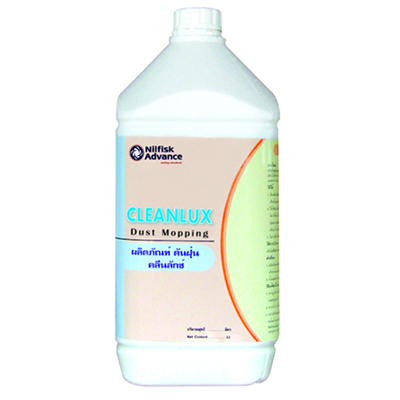Cleaning_solution: (108, 3, 283, 391)
